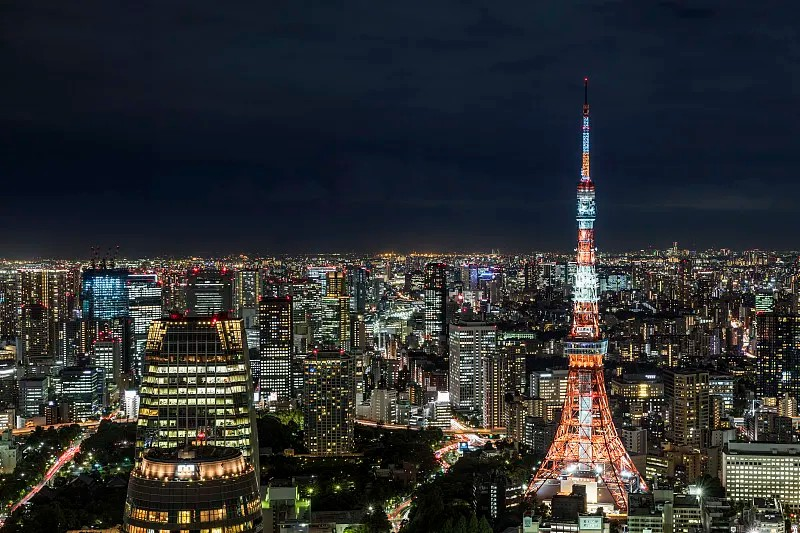Tokyo: (522, 74, 649, 516)
